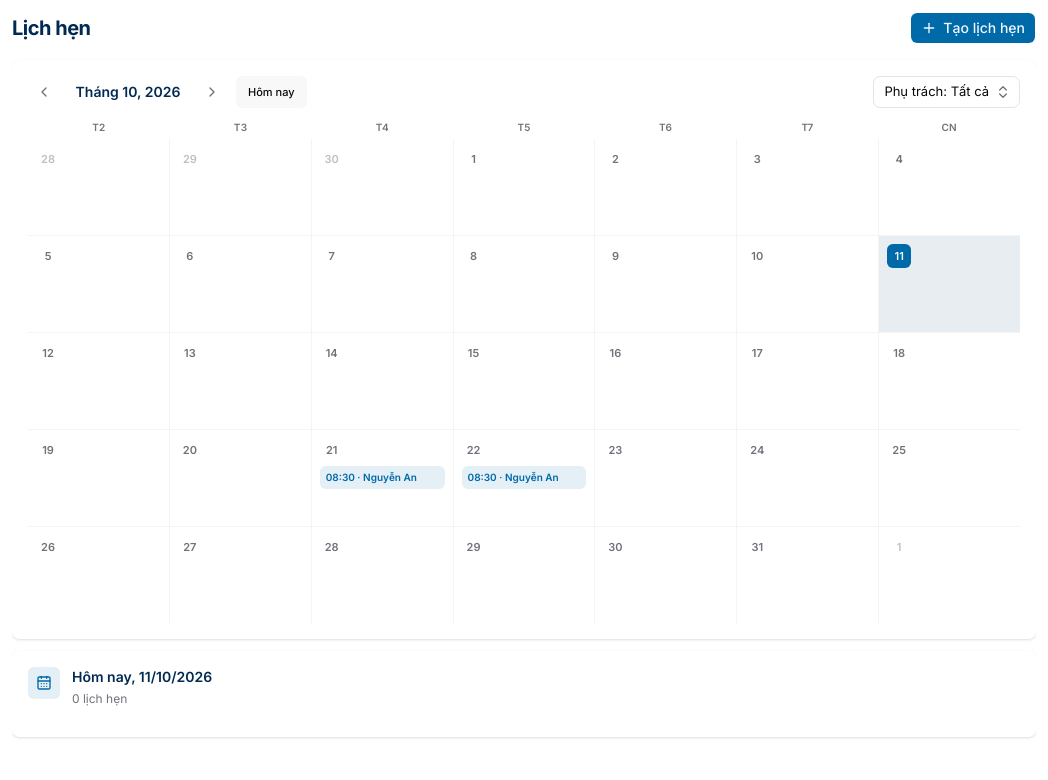
Test: AppointmentCalendar › bấm ngày → cột bên liệt kê lịch hẹn của ngày đó
Click the button named "Ngày 21/10/2026" at (332, 450), box top-left (320, 438), bottom-right (344, 462)
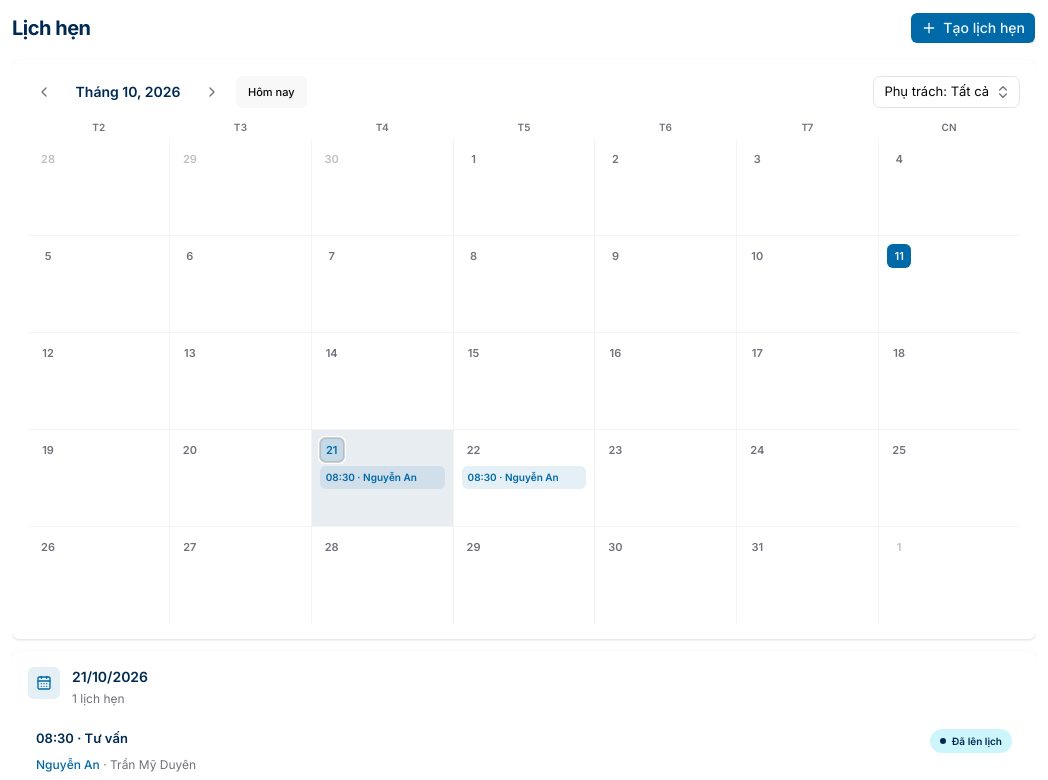
Check: the text "1 lịch hẹn" is shown, box top-left (72, 691), bottom-right (125, 706)
Check: the text "Đã lên lịch" is shown, box top-left (930, 729), bottom-right (1012, 753)
